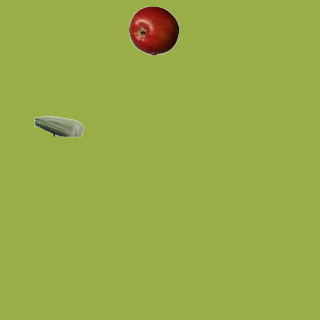Apple Braeburn: (128, 5, 178, 55)
Corn Husk: (33, 101, 83, 151)
